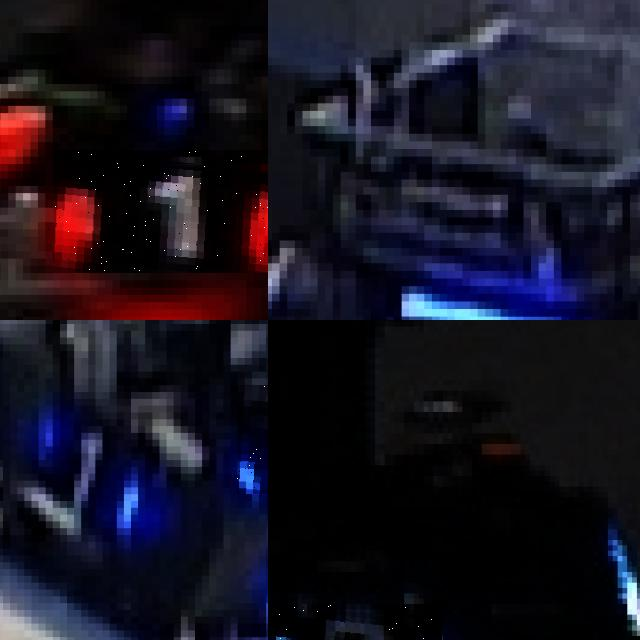B1: (21, 396, 156, 538)
B2: (273, 603, 442, 640)
R1: (53, 149, 268, 273)
